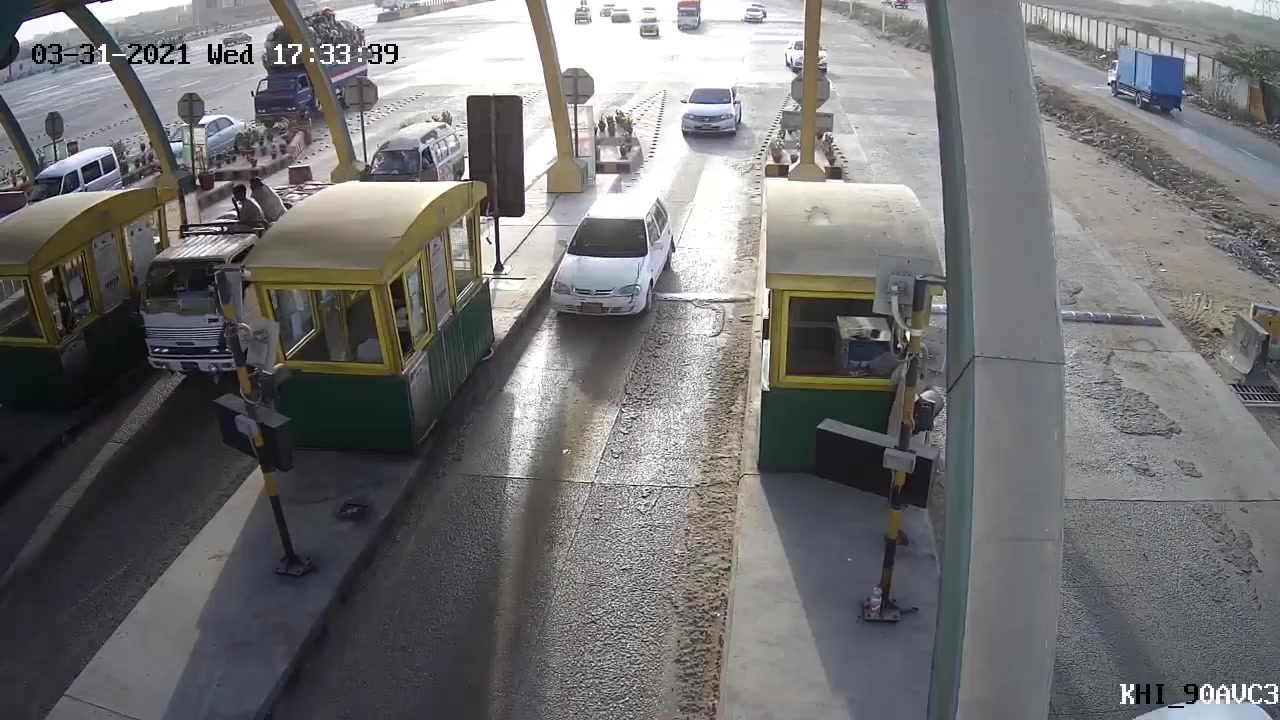F1: (540, 190, 698, 352)
